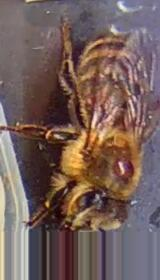varroa_mite: (113, 143, 140, 182)
